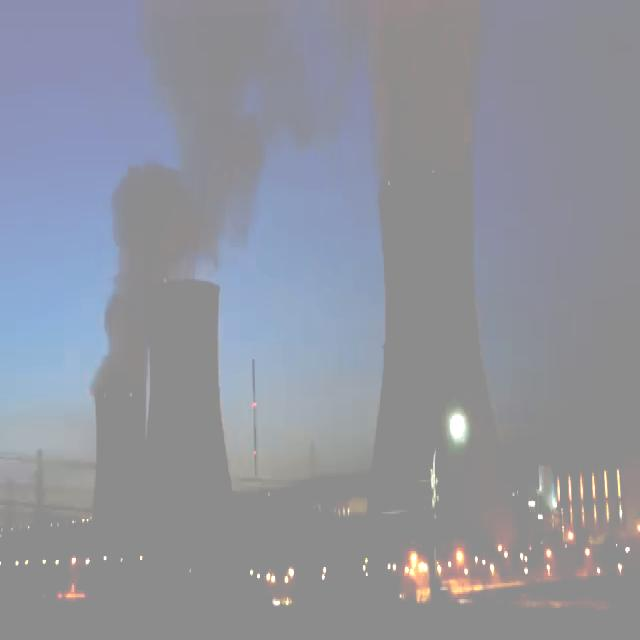smoke: (94, 0, 326, 420), (378, 0, 478, 174)
